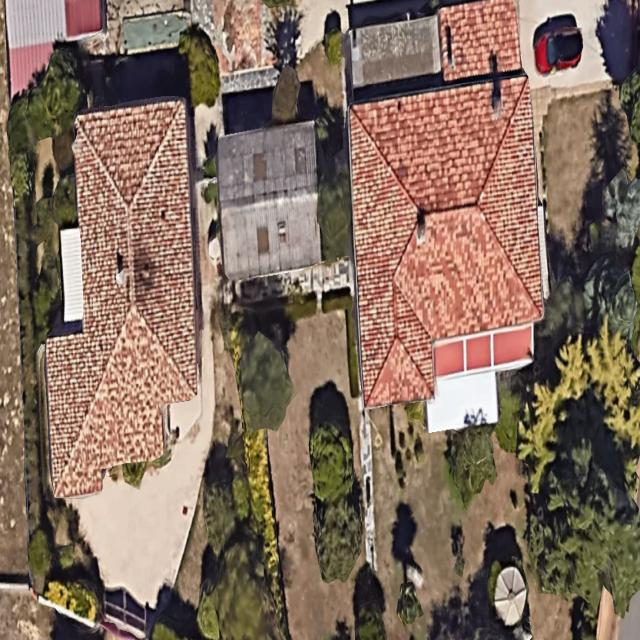maison: (339, 0, 556, 434), (38, 92, 212, 505)
